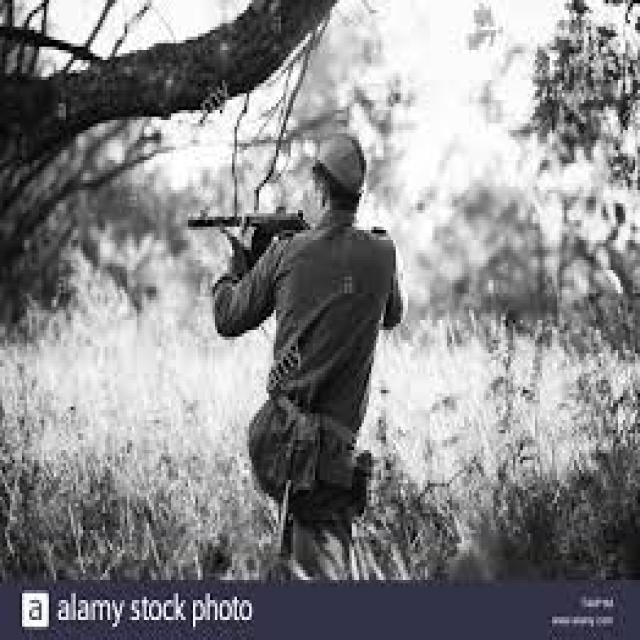soldier: (188, 131, 407, 590)
